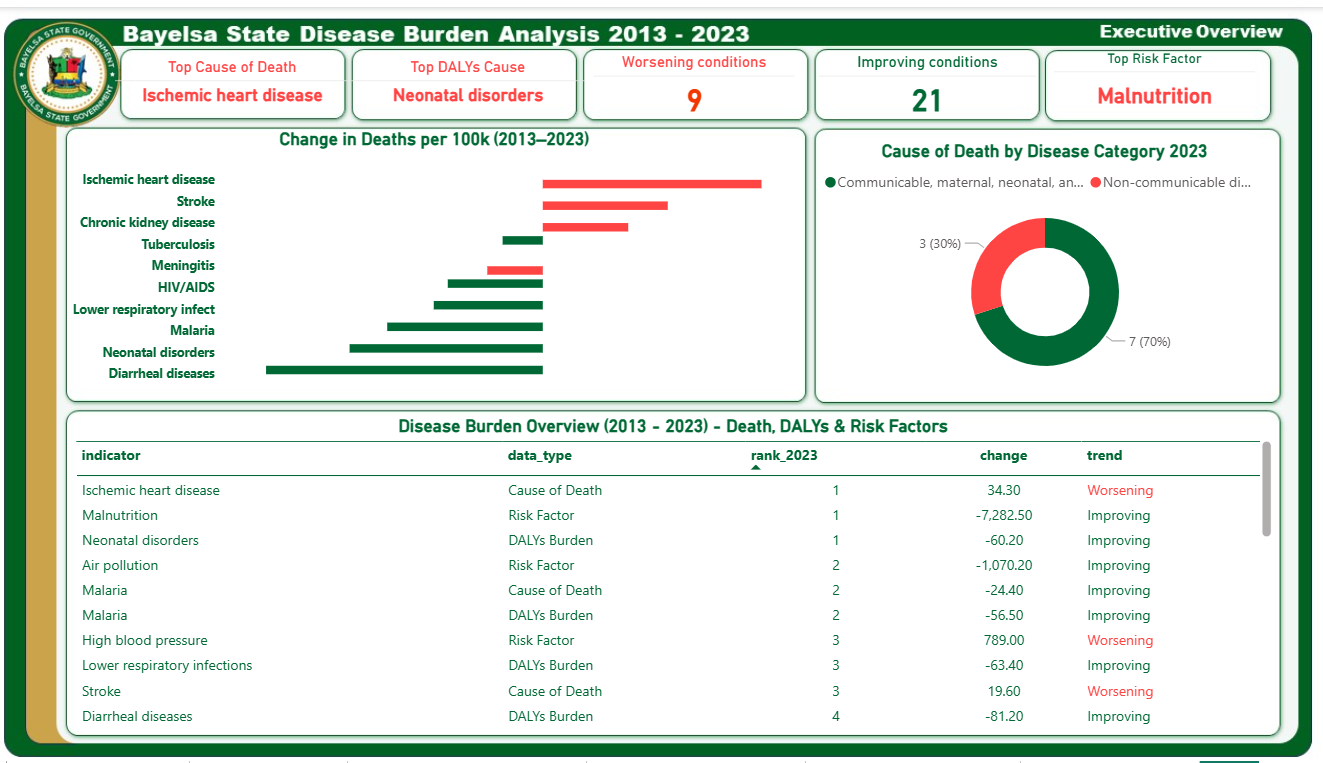

This screenshot's page, from the dashboard's own definition file:
{"tool":"powerbi","page":{"name":"Executive page","canvas":[1280,720],"ordinal":0},"visuals":[{"type":"card","title":"Top Cause of Death","fields":{"Values":["_Measures.Top Cause of Death"]},"box":[112,48,224,48],"z":0},{"type":"card","title":"Top DALYs Cause","fields":{"Values":["_Measures.Top DALYs Cause"]},"box":[336,48,224,48],"z":1000},{"type":"card","title":"Worsening conditions","fields":{"Values":["_Measures.Worsening Conditions"]},"box":[569,44,192,64],"z":2000},{"type":"card","title":"Improving conditions","fields":{"Values":["_Measures.Improving Conditions"]},"box":[784,45,208,64],"z":3000},{"type":"card","title":"Top Risk Factor","fields":{"Values":["_Measures.Top Risk Factor"]},"box":[1008,42,192,64],"z":4000},{"type":"clusteredBarChart","title":"Change in Deaths per 100k (2013–2023)","fields":{"Category":["Death Data.Cause"],"Series":["Death Data.Trend"],"Y":["Death Data.Death Change per 100k"]},"box":[64,116,704,256],"z":5000},{"type":"donutChart","title":"Cause of Death by Disease Category 2023","fields":{"Category":["Death Data.Cause type"],"Y":["CountNonNull(Death Data.2023 rank)"]},"box":[784,128,432,240],"z":6000},{"type":"tableEx","title":"Disease Burden Overview (2013 - 2023) - Death, DALYs & Risk Factors","fields":{"Values":["Bayelsa_Combined_Summary_Revise.indicator","Bayelsa_Combined_Summary_Revise.data_type","Sum(Bayelsa_Combined_Summary_Revise.rank_2023)","Sum(Bayelsa_Combined_Summary_Revise.change)","Bayelsa_Combined_Summary_Revise.trend"]},"box":[69,389,1152,304],"z":7000}]}

Visuals, with their boxes in screenshot pixels (x1, y1, x2, y2), scaled from the page's 1280x720 canvas onto the 1323x763 screenshot:
"Top Cause of Death" card: bbox(116, 51, 347, 102)
"Top DALYs Cause" card: bbox(347, 51, 579, 102)
"Worsening conditions" card: bbox(588, 47, 787, 114)
"Improving conditions" card: bbox(810, 48, 1025, 116)
"Top Risk Factor" card: bbox(1042, 45, 1240, 112)
"Change in Deaths per 100k (2013–2023)" clusteredBarChart: bbox(66, 123, 794, 394)
"Cause of Death by Disease Category 2023" donutChart: bbox(810, 136, 1257, 390)
"Disease Burden Overview (2013 - 2023) - Death, DALYs & Risk Factors" tableEx: bbox(71, 412, 1262, 734)
